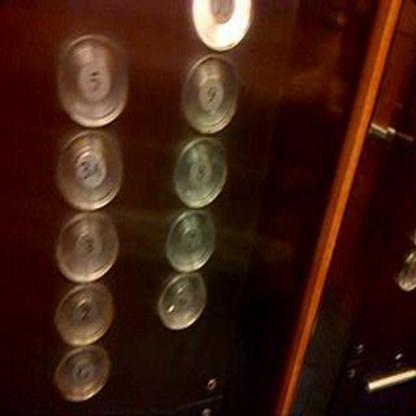2: (51, 282, 114, 345)
3: (55, 210, 118, 282)
5: (54, 33, 130, 128)
7: (164, 208, 215, 272)
8: (173, 135, 227, 207)
9: (183, 53, 238, 133)
G: (53, 346, 110, 401)
blur: (55, 128, 123, 209), (155, 272, 206, 329)
